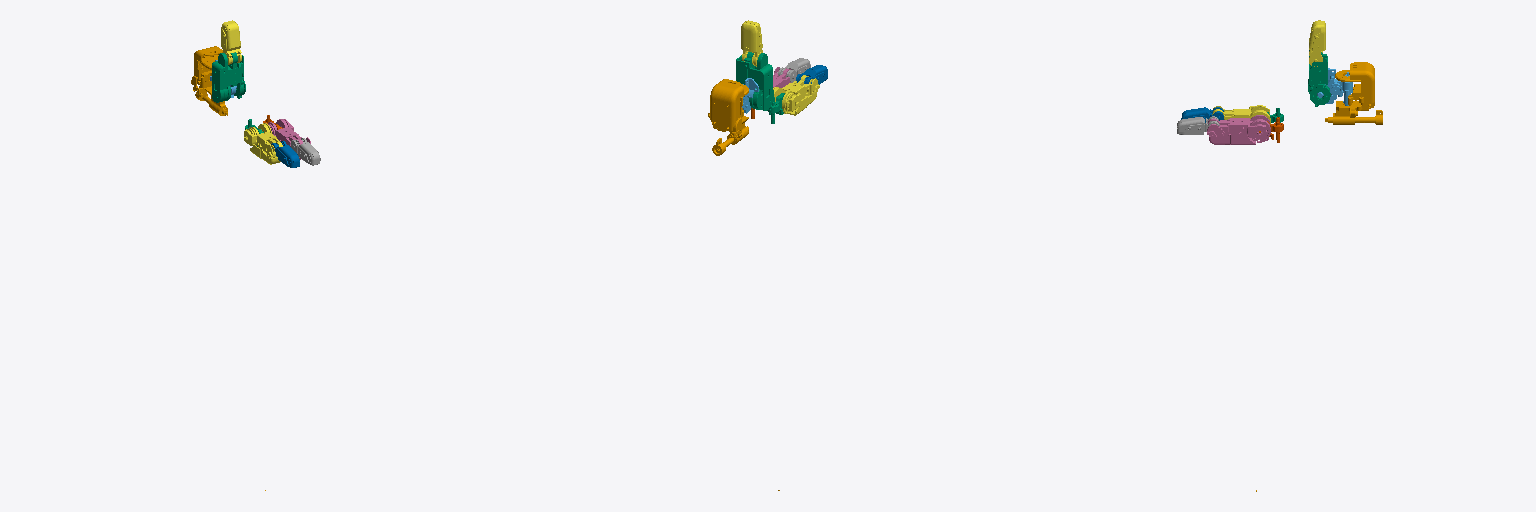
robot.urdf — hand_robot:
<?xml version="1.0" ?>

<robot name="hand_robot">

  <link name="base_link">
    <visual>
      <origin rpy="0 0 0" xyz="0 0 -0.5"/>
      <geometry>
        <box size="0.001 0.001 0.001"/>
      </geometry>
    </visual>
    <collision>
      <origin rpy="0 0 0" xyz="0 0 -0.5"/>
      <geometry>
        <box size="0.001 0.001 0.001"/>
      </geometry>
    </collision>
    <inertial>
      <mass value="1.0"/>
      <inertia ixx="0.6" ixy="0.0" ixz="0.0" iyy="0.6" iyz="0.0" izz="0.6"/>
    </inertial>
  </link>
  <joint name="hand_joint" type="fixed">
    <origin rpy="0 0 1.57" xyz="0 0.1 -0.07"/>
    <parent link="base_link"/>
    <child link="hand_base_link"/>
  </joint>

  <!-- Base link -->
  <link name="hand_base_link">
    <visual>
      <origin rpy="0 0 0" xyz="0 0 0"/>
      <geometry>
        <mesh filename="package://wbr_description/meshes/hand/R_hand.STL" scale="0.001 0.001 0.001"/>
      </geometry>
      <material name="black">
        <color rgba="0.7 0.7 0.7 1"/>
      </material>
    </visual>
    <collision>
      <origin rpy="0 0 0" xyz="0 0 0"/>
      <geometry>
        <mesh filename="package://wbr_description/meshes/hand/R_hand.stl" scale="0.001 0.001 0.001"/>
      </geometry>
    </collision>
    <inertial>
      <origin rpy="0 0 0" xyz="0 0 0"/>
      <mass value="0.25"/>
      <inertia ixx="1" ixy="0" ixz="0" iyy="1" iyz="0" izz="1"/>
    </inertial>
  </link>

  <!-- Index finger -->
  <link name="index_finger_1">
    <visual>
      <origin rpy="0 0 0" xyz="0 0 0"/>
      <geometry>
        <mesh filename="package://wbr_description/meshes/hand/R_first_finger_F3.STL" scale="0.001 0.001 0.001"/>
      </geometry>
    </visual>
    <collision>
      <origin rpy="0 0 0" xyz="0 0 0"/>
      <geometry>
        <mesh filename="package://wbr_description/meshes/hand/R_first_finger_F3.stl" scale="0.001 0.001 0.001"/>
      </geometry>
    </collision>
    <inertial>
      <origin rpy="0 0 0" xyz="0 0 0"/>
      <mass value="0.05"/>
      <inertia ixx="1" ixy="0" ixz="0" iyy="1" iyz="0" izz="1"/>
    </inertial>
  </link>

  <joint name="index_joint_1" type="revolute">
    <parent link="hand_base_link"/>
    <child link="index_finger_1"/>
    <origin rpy="3.14 0 0" xyz="-0.076 0.0067 0.0175"/>
    <axis xyz="0 0 1"/>
    <limit lower="-0.174" upper="1.57" effort="1.0" velocity="1.0"/>
  </joint>

  <link name="index_finger_2">
    <visual>
      <origin rpy="0 0 0" xyz="0 0 0"/>
      <geometry>
        <mesh filename="package://wbr_description/meshes/hand/R_first_finger_F2.STL" scale="0.001 0.001 0.001"/>
      </geometry>
    </visual>
    <collision>
      <origin rpy="0 0 0" xyz="0 0 0"/>
      <geometry>
        <mesh filename="package://wbr_description/meshes/hand/R_first_finger_F2.stl" scale="0.001 0.001 0.001"/>
      </geometry>
    </collision>
    <inertial>
      <origin rpy="0 0 0" xyz="0 0 0"/>
      <mass value="0.03"/>
      <inertia ixx="1" ixy="0" ixz="0" iyy="1" iyz="0" izz="1"/>
    </inertial>
  </link>

  <joint name="index_joint_2" type="revolute">
    <parent link="index_finger_1"/>
    <child link="index_finger_2"/>
    <origin rpy="0 1.57 -1.57" xyz="-0.02 0 0"/>
    <axis xyz="0 0 1"/>
    <limit lower="0" upper="1.57" effort="1.0" velocity="1.0"/>
  </joint>

  <link name="index_finger_3">
    <visual>
      <origin rpy="0 0 0" xyz="0 0 0"/>
      <geometry>
        <mesh filename="package://wbr_description/meshes/hand/R_first_finger_F1.STL" scale="0.001 0.001 0.001"/>
      </geometry>
    </visual>
    <collision>
      <origin rpy="0 0 0" xyz="0 0 0"/>
      <geometry>
        <mesh filename="package://wbr_description/meshes/hand/R_first_finger_F1.stl" scale="0.001 0.001 0.001"/>
      </geometry>
    </collision>
    <inertial>
      <origin rpy="0 0 0" xyz="0 0 0"/>
      <mass value="0.03"/>
      <inertia ixx="1" ixy="0" ixz="0" iyy="1" iyz="0" izz="1"/>
    </inertial>
  </link>

  <joint name="index_joint_3" type="revolute">
    <parent link="index_finger_2"/>
    <child link="index_finger_3"/>
    <origin rpy="0 0 0" xyz="0.003 -0.0455 0"/>
    <axis xyz="0 0 1"/>
    <limit lower="0" upper="1.57" effort="1.0" velocity="1.0"/>
  </joint>

  <!-- Middle finger -->
  <link name="middle_finger_1">
    <visual>
      <origin rpy="0 0 0" xyz="0 0 0"/>
      <geometry>
        <mesh filename="package://wbr_description/meshes/hand/R_middle_finger_F3.STL" scale="0.001 0.001 0.001"/>
      </geometry>
    </visual>
    <collision>
      <origin rpy="0 0 0" xyz="0 0 0"/>
      <geometry>
        <mesh filename="package://wbr_description/meshes/hand/R_middle_finger_F3.stl" scale="0.001 0.001 0.001"/>
      </geometry>
    </collision>
    <inertial>
      <origin rpy="0 0 0" xyz="0 0 0"/>
      <mass value="0.05"/>
      <inertia ixx="1" ixy="0" ixz="0" iyy="1" iyz="0" izz="1"/>
    </inertial>
  </link>

  <joint name="middle_joint_1" type="revolute">
    <parent link="hand_base_link"/>
    <child link="middle_finger_1"/>
    <origin rpy="3.14 0 0" xyz="-0.076 -0.0173 0.0175"/>
    <axis xyz="0 0 1"/>
    <limit lower="-1.57" upper="0.174" effort="1.0" velocity="1.0"/>
  </joint>

  <link name="middle_finger_2">
    <visual>
      <origin rpy="0 0 0" xyz="0 0 0"/>
      <geometry>
        <mesh filename="package://wbr_description/meshes/hand/R_middle_finger_F2.STL" scale="0.001 0.001 0.001"/>
      </geometry>
    </visual>
    <collision>
      <origin rpy="0 0 0" xyz="0 0 0"/>
      <geometry>
        <mesh filename="package://wbr_description/meshes/hand/R_middle_finger_F2.stl" scale="0.001 0.001 0.001"/>
      </geometry>
    </collision>
    <inertial>
      <origin rpy="0 0 0" xyz="0 0 0"/>
      <mass value="0.03"/>
      <inertia ixx="1" ixy="0" ixz="0" iyy="1" iyz="0" izz="1"/>
    </inertial>
  </link>

  <joint name="middle_joint_2" type="revolute">
    <parent link="middle_finger_1"/>
    <child link="middle_finger_2"/>
    <origin rpy="0 1.57 -1.57" xyz="-0.02 0 0"/>
    <axis xyz="0 0 1"/>
    <limit lower="0" upper="1.57" effort="1.0" velocity="1.0"/>
  </joint>

  <link name="middle_finger_3">
    <visual>
      <origin rpy="0 0 0" xyz="0 0 0"/>
      <geometry>
        <mesh filename="package://wbr_description/meshes/hand/R_middle_finger_F1.STL" scale="0.001 0.001 0.001"/>
      </geometry>
    </visual>
    <collision>
      <origin rpy="0 0 0" xyz="0 0 0"/>
      <geometry>
        <mesh filename="package://wbr_description/meshes/hand/R_middle_finger_F1.stl" scale="0.001 0.001 0.001"/>
      </geometry>
    </collision>
    <inertial>
      <origin rpy="0 0 0" xyz="0 0 0"/>
      <mass value="0.03"/>
      <inertia ixx="1" ixy="0" ixz="0" iyy="1" iyz="0" izz="1"/>
    </inertial>
  </link>

  <joint name="middle_joint_3" type="revolute">
    <parent link="middle_finger_2"/>
    <child link="middle_finger_3"/>
    <origin rpy="0 0 0" xyz="0.003 -0.0505 0"/>
    <axis xyz="0 0 1"/>
    <limit lower="0" upper="1.57" effort="1.0" velocity="1.0"/>
  </joint>

  <!-- Thumb -->
  <link name="thumb_1">
    <visual>
      <origin rpy="0 0 3.14" xyz="0 0 0"/>
      <geometry>
        <mesh filename="package://wbr_description/meshes/hand/R_thumb_F4.STL" scale="0.001 0.001 0.001"/>
      </geometry>
    </visual>
    <collision>
      <origin rpy="0 0 3.14" xyz="0 0 0"/>
      <geometry>
        <mesh filename="package://wbr_description/meshes/hand/R_thumb_F4.stl" scale="0.001 0.001 0.001"/>
      </geometry>
    </collision>
    <inertial>
      <origin rpy="0 0 0" xyz="0 0 0"/>
      <mass value="0.05"/>
      <inertia ixx="1" ixy="0" ixz="0" iyy="1" iyz="0" izz="1"/>
    </inertial>
  </link>

  <joint name="thumb_joint_1" type="revolute">
    <parent link="hand_base_link"/>
    <child link="thumb_1"/>
    <origin rpy="-1.57 0 -1.57" xyz="0 0.0067 0.015"/>
    <axis xyz="0 0 1"/>
    <limit lower="-1.57" upper="0" effort="1.0" velocity="1.0"/>
  </joint>

  <link name="thumb_2">
    <visual>
      <origin rpy="0 0 -1.57" xyz="0 0 0"/>
      <geometry>
        <mesh filename="package://wbr_description/meshes/hand/R_thumb_F3.STL" scale="0.001 0.001 0.001"/>
      </geometry>
    </visual>
    <collision>
      <origin rpy="0 0 -1.57" xyz="0 0 0"/>
      <geometry>
        <mesh filename="package://wbr_description/meshes/hand/R_thumb_F3.stl" scale="0.001 0.001 0.001"/>
      </geometry>
    </collision>
    <inertial>
      <origin rpy="0 0 0" xyz="0 0 0"/>
      <mass value="0.03"/>
      <inertia ixx="1" ixy="0" ixz="0" iyy="1" iyz="0" izz="1"/>
    </inertial>
  </link>

  <joint name="thumb_joint_2" type="revolute">
    <parent link="thumb_1"/>
    <child link="thumb_2"/>
    <origin rpy="0 1.57 -1.57" xyz="0 -0.03575 0"/>
    <axis xyz="0 0 1"/>
    <limit lower="-1.57" upper="1.57" effort="1.0" velocity="1.0"/>
  </joint>

  <link name="thumb_3">
    <visual>
      <origin rpy="0 0 0" xyz="0 0 0"/>
      <geometry>
        <mesh filename="package://wbr_description/meshes/hand/R_thumb_F2.STL" scale="0.001 0.001 0.001"/>
      </geometry>
    </visual>
    <collision>
      <origin rpy="0 0 0" xyz="0 0 0"/>
      <geometry>
        <mesh filename="package://wbr_description/meshes/hand/R_thumb_F2.stl" scale="0.001 0.001 0.001"/>
      </geometry>
    </collision>
    <inertial>
      <origin rpy="0 0 0" xyz="0 0 0"/>
      <mass value="0.03"/>
      <inertia ixx="1" ixy="0" ixz="0" iyy="1" iyz="0" izz="1"/>
    </inertial>
  </link>

  <joint name="thumb_joint_3" type="revolute">
    <parent link="thumb_2"/>
    <child link="thumb_3"/>
    <origin rpy="-1.57 0 0" xyz="0.03 0 0"/>
    <axis xyz="0 0 1"/>
    <limit lower="0" upper="1.57" effort="1.0" velocity="1.0"/>
  </joint>

  <link name="thumb_4">
    <visual>
      <origin rpy="0 0 0" xyz="0 0 0"/>
      <geometry>
        <mesh filename="package://wbr_description/meshes/hand/R_thumb_F1.STL" scale="0.001 0.001 0.001"/>
      </geometry>
    </visual>
    <collision>
      <origin rpy="0 0 0" xyz="0 0 0"/>
      <geometry>
        <mesh filename="package://wbr_description/meshes/hand/R_thumb_F1.stl" scale="0.001 0.001 0.001"/>
      </geometry>
    </collision>
    <inertial>
      <origin rpy="0 0 0" xyz="0 0 0"/>
      <mass value="0.03"/>
      <inertia ixx="1" ixy="0" ixz="0" iyy="1" iyz="0" izz="1"/>
    </inertial>
  </link>

  <joint name="thumb_joint_4" type="revolute">
    <parent link="thumb_3"/>
    <child link="thumb_4"/>
    <origin rpy="0 0 0" xyz="0.0045 -0.04 0"/>
    <axis xyz="0 0 1"/>
    <limit lower="0" upper="1.57" effort="1.0" velocity="1.0"/>
  </joint>
</robot>

--- Render facts (derived) ---
The picture shows the robot from 3 angles, left to right: view 1: azimuth 30°, elevation 25°; view 2: azimuth 150°, elevation 25°; view 3: azimuth 270°, elevation 25°; orthographic projection.
Robot: hand_robot — 12 links, 11 joints (10 revolute, 1 fixed); root link base_link; default pose: all joints at 0.
Links seen in each view (by area): view 1: thumb_3, thumb_1, index_finger_2, thumb_4; view 2: thumb_1, thumb_3, index_finger_2, thumb_4; view 3: thumb_1, middle_finger_2, thumb_3, thumb_4, thumb_2, middle_finger_3.
Link boxes in pixels (x1,y1,x2,y2): thumb_3: [212, 52, 245, 102]; thumb_1: [191, 46, 227, 115]; index_finger_2: [244, 123, 282, 164]; thumb_4: [221, 20, 241, 64]; thumb_1: [708, 79, 748, 155]; thumb_3: [736, 52, 773, 110]; index_finger_2: [773, 75, 819, 115]; thumb_4: [741, 20, 762, 66]; thumb_1: [1325, 62, 1382, 124]; middle_finger_2: [1207, 115, 1270, 144]; thumb_3: [1308, 50, 1330, 106]; thumb_4: [1309, 20, 1325, 66]; thumb_2: [1317, 68, 1352, 105]; middle_finger_3: [1177, 116, 1219, 134].
Bounding box of the posed robot: 0.0614 × 0.2257 × 0.5631 m (x, y, z).
10 mesh visuals loaded from 11 distinct referenced files (10 binary STL); not drawn: 1 (reference not matched to a file when rendering).
